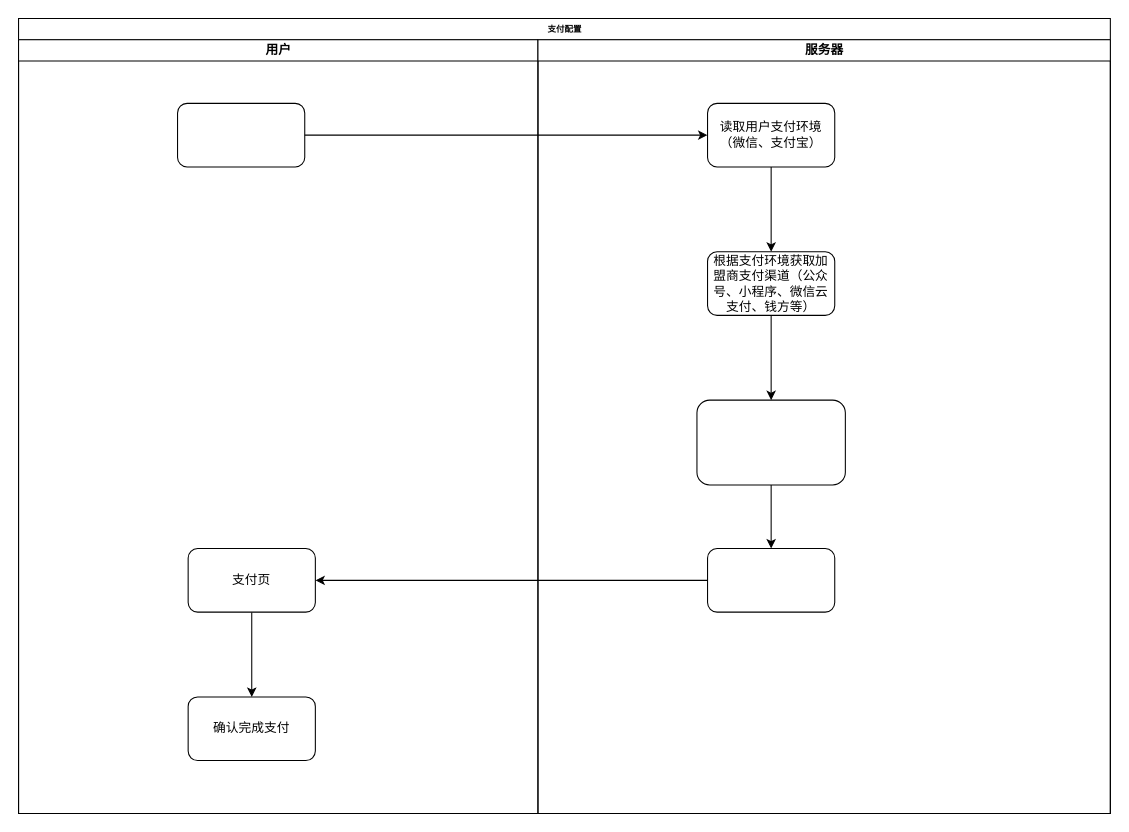
Image size: 1129x832. Some labels were removed from this diagram. The shapes that lost their labels are listed below. From the top down, each one's centre as x and y in pixels, then its label:
point (240, 134): 用户支付
point (770, 442): 根据渠道id读取对应的渠道配置，每个渠道配置参数不同，每个渠道可能独立数据表
point (770, 579): 组织渠道参数，发起支付
